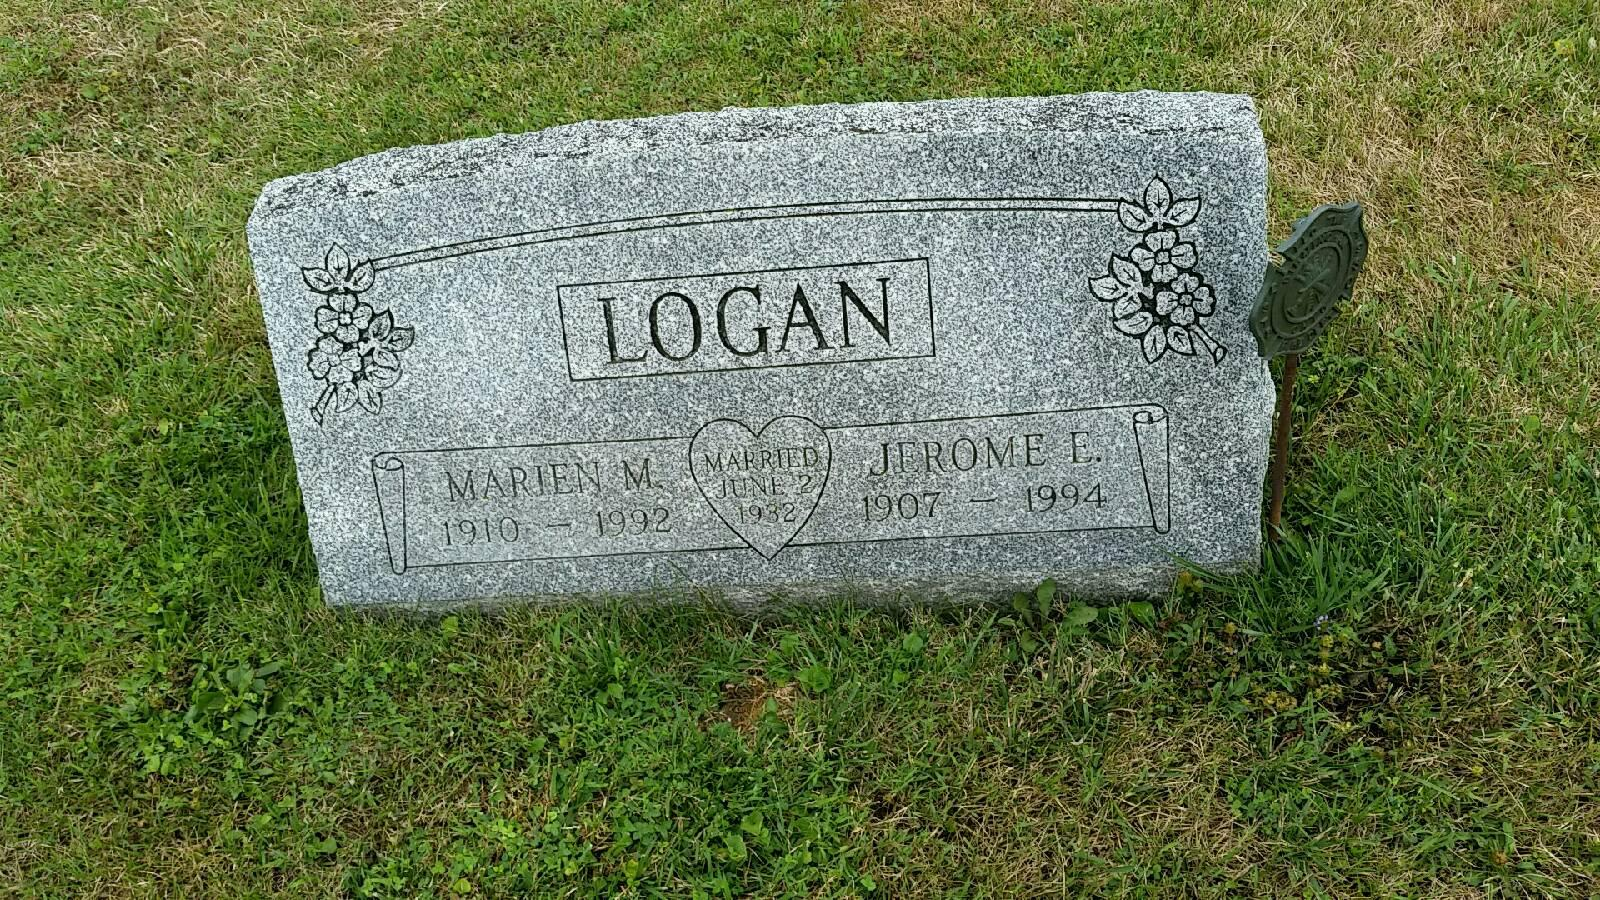upright: (232, 59, 1301, 673)
